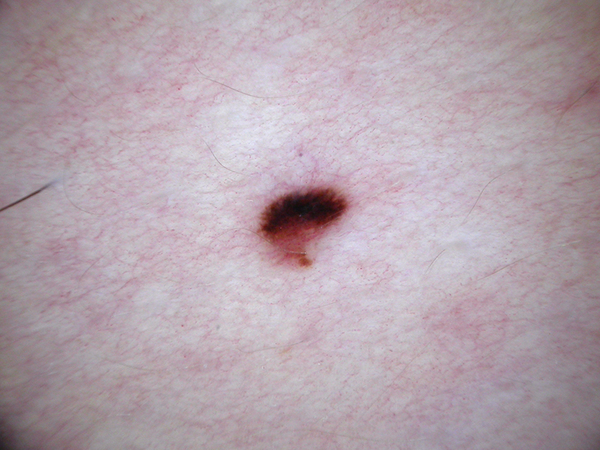Detected Lesion: (252, 175, 351, 273)
